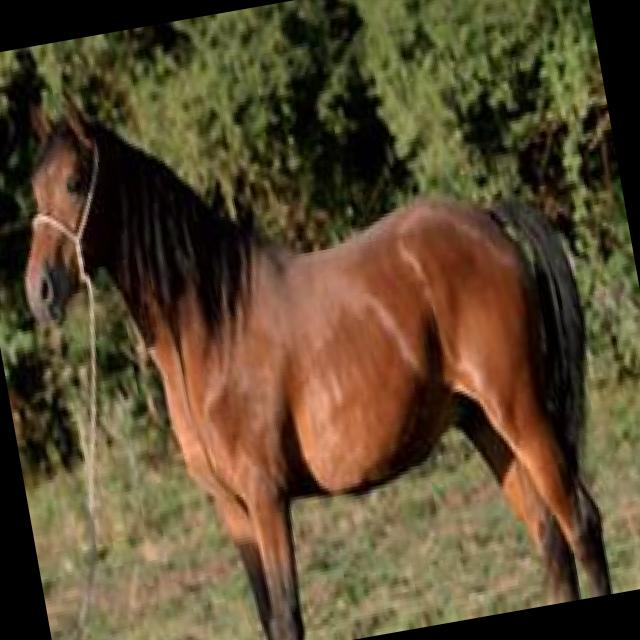animal: (0, 2, 633, 640)
